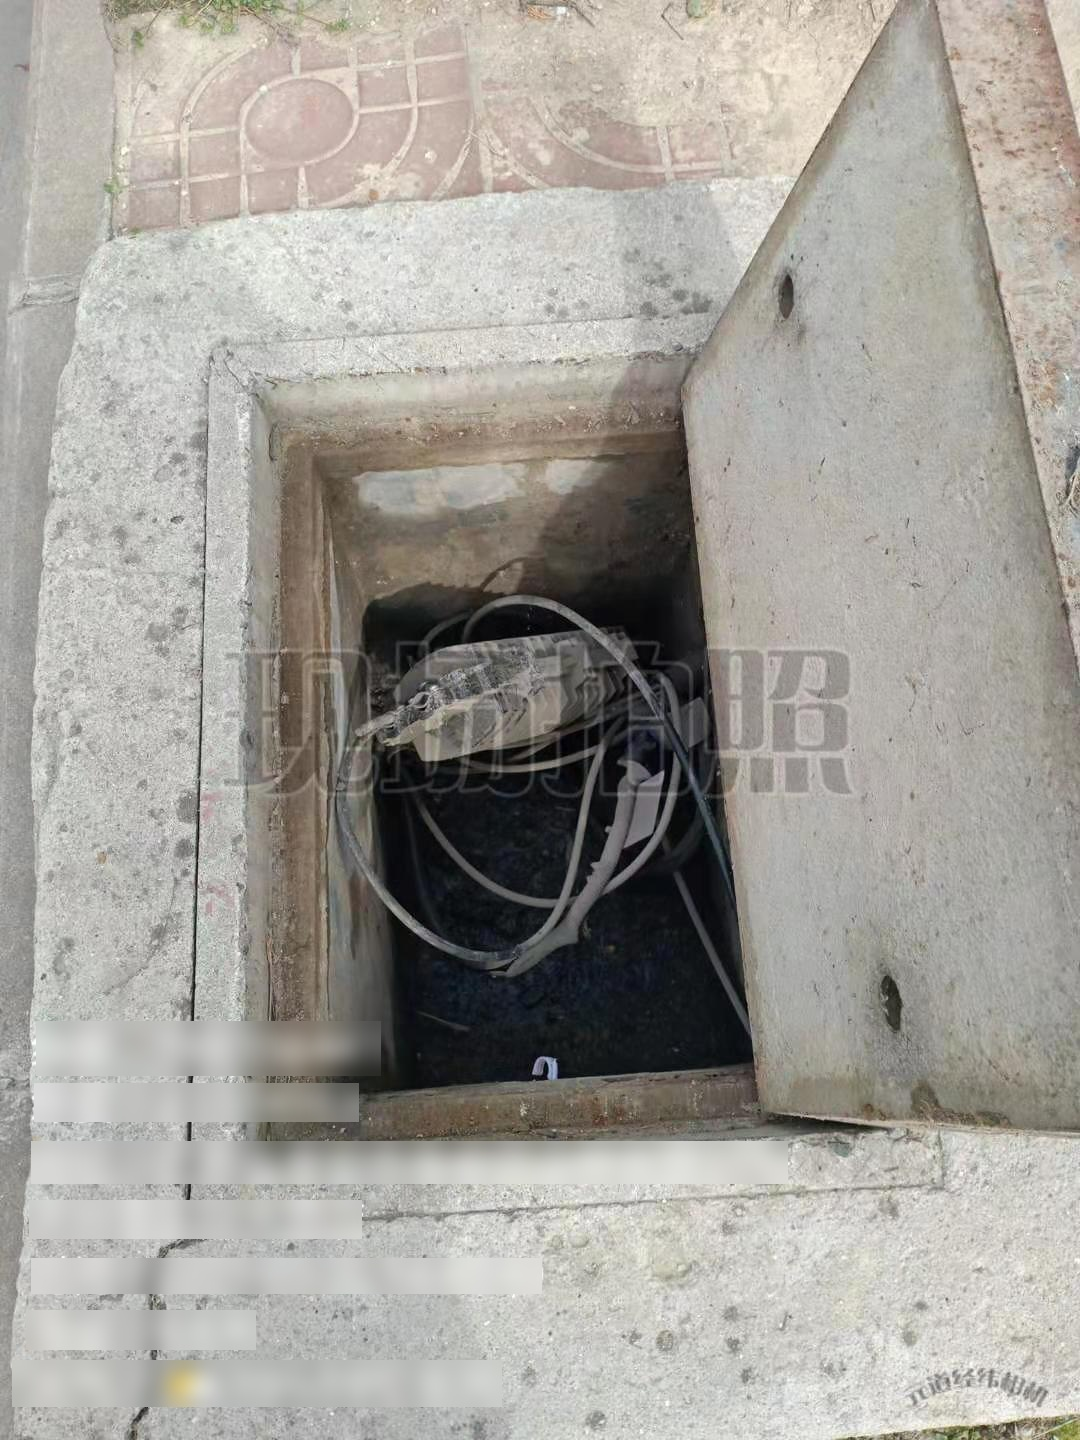uncovered: (199, 2, 1080, 1220)
